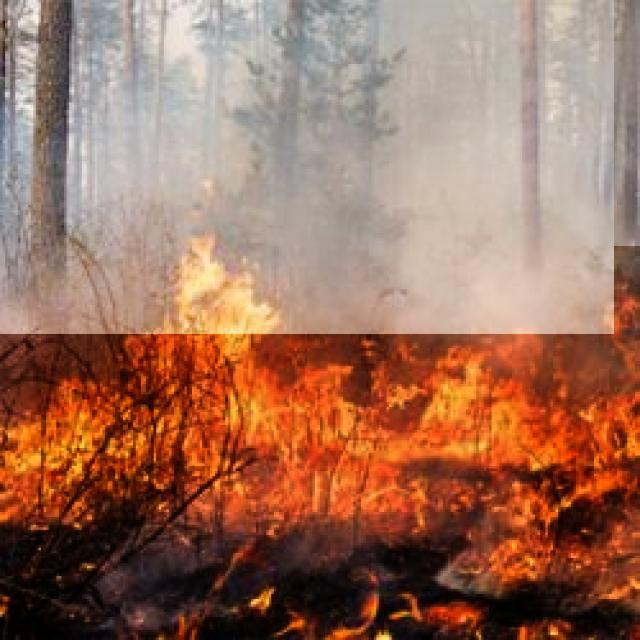Fire: (0, 246, 640, 640)
Smoke: (0, 0, 614, 334)
